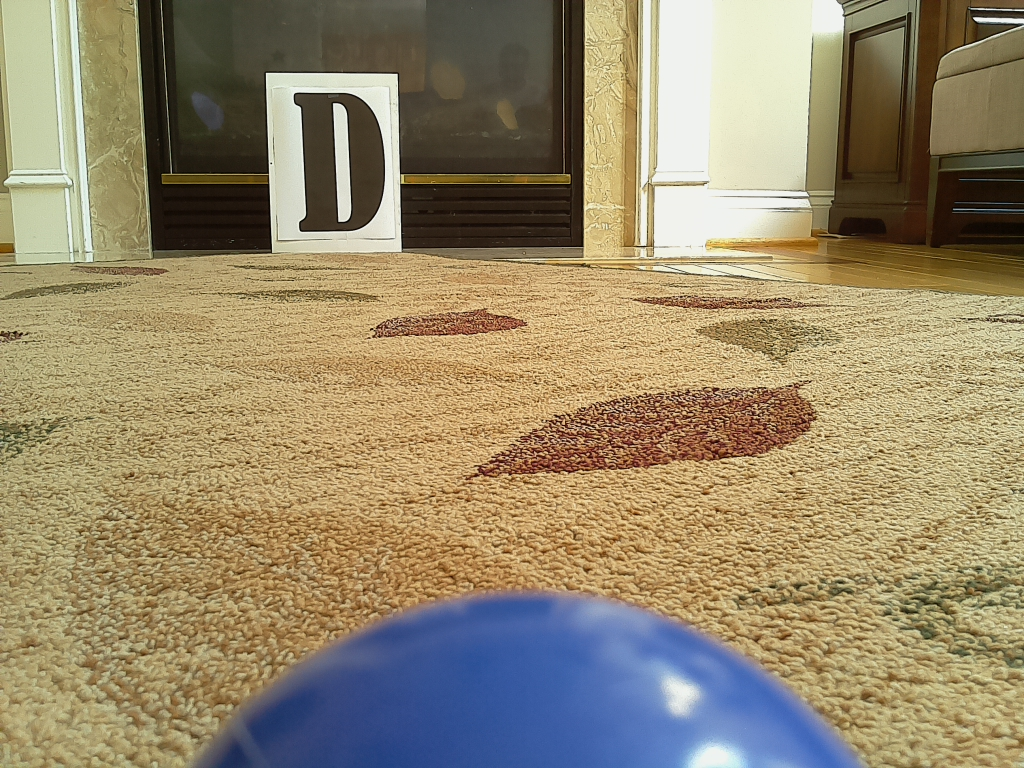letter: (300, 92, 385, 232)
